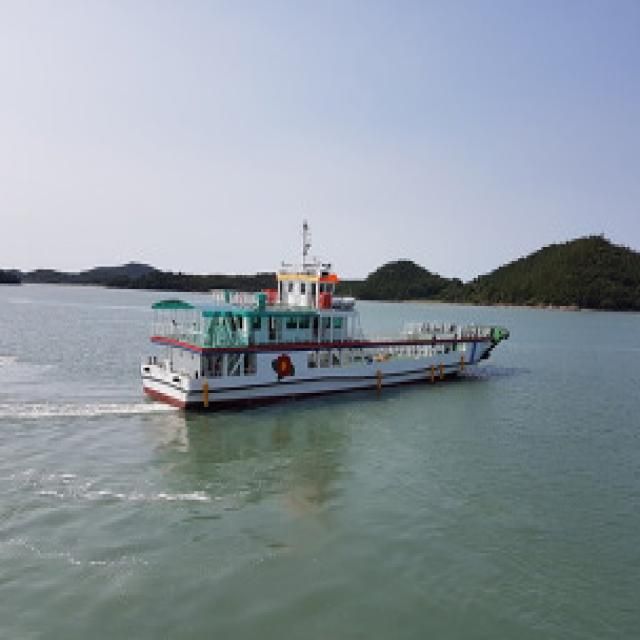passenger ship: (136, 242, 496, 412)
